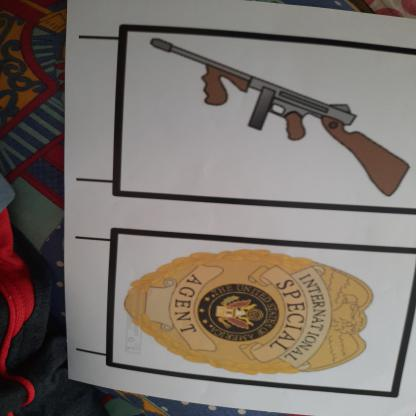Bootlegger: (136, 32, 416, 206)
G-man: (118, 238, 379, 386)
